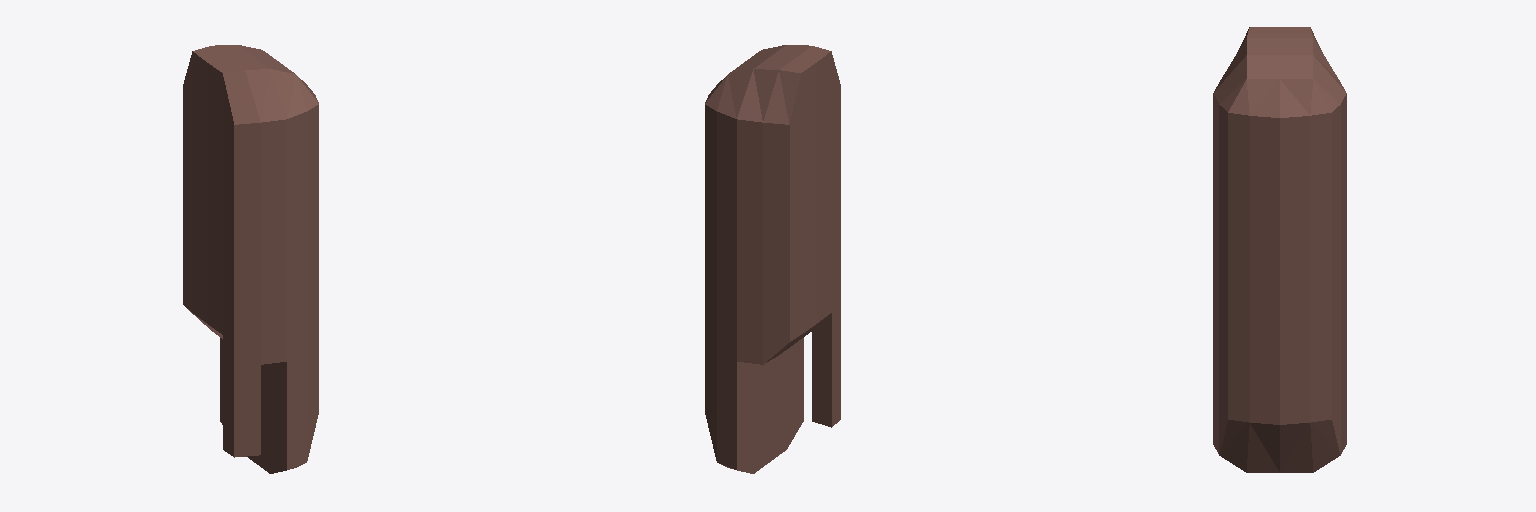
3 views of the same model, side by side, from view 1: azimuth 30°, elevation 25°; view 2: azimuth 150°, elevation 25°; view 3: azimuth 270°, elevation 25° (orthographic).
Parts seen in each view (by area): view 1: 立方体.001; view 2: 立方体.001; view 3: 立方体.001.
Part boxes in pixels (x1,y1,x2,y2): 立方体.001: (183, 45, 318, 473); 立方体.001: (705, 45, 840, 473); 立方体.001: (1213, 27, 1346, 472).
Bounding box in the file's own units: 0.4224 × 1.7 × 0.5.
Materials: 1 (1 with a texture image).